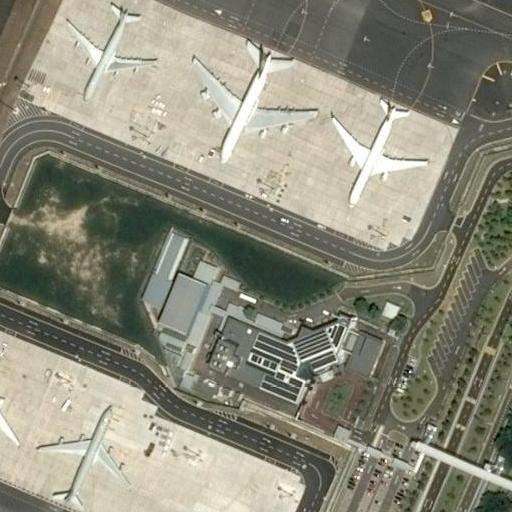Aircraft: (188, 34, 316, 163), (190, 34, 316, 162), (326, 91, 428, 206), (330, 97, 429, 207), (35, 399, 130, 511), (56, 0, 156, 105), (35, 403, 131, 512), (61, 0, 157, 102), (0, 350, 19, 467), (0, 356, 15, 467)
